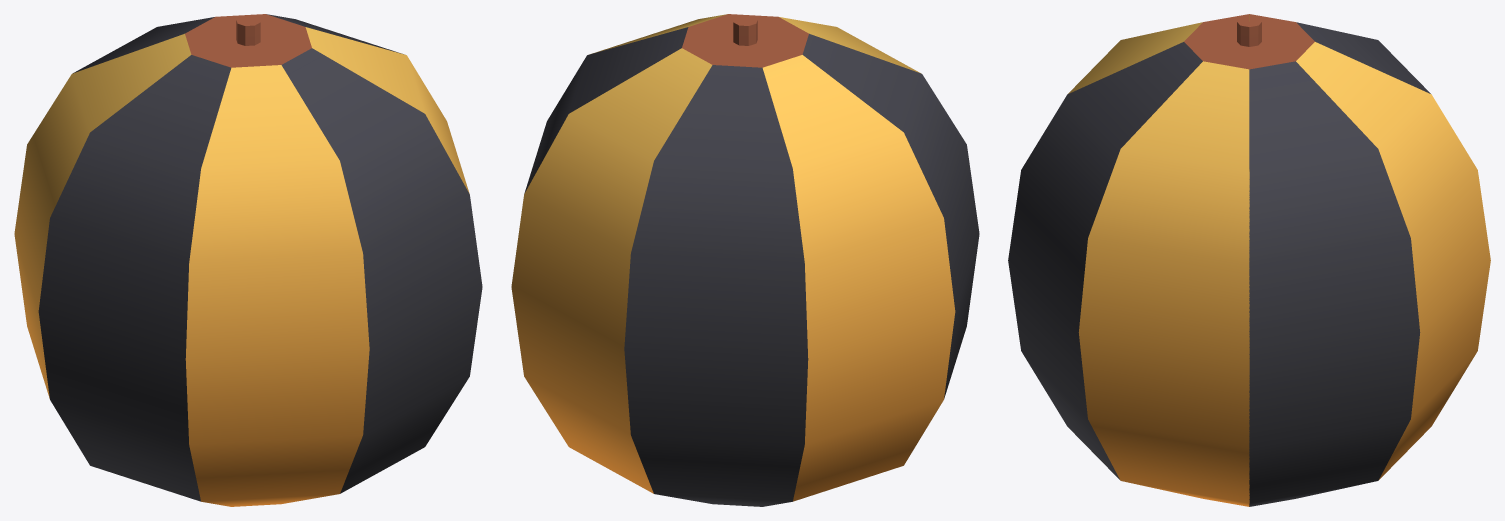
Rendered from watermelon.glb.
3 renders of one model, left to right at view 1: azimuth 30°, elevation 25°; view 2: azimuth 150°, elevation 25°; view 3: azimuth 270°, elevation 25°, orthographic.
Visible parts, largest first — view 1: slice, slice.001, slice.004, slice.007, slice.003, slice.002, slice.006; view 2: slice.002, slice.007, slice.005, slice.001, slice.006, slice, slice.003; view 3: slice.003, slice.006, slice.004, slice.005, slice, slice.002.
Boxes of the visible parts, bbox=[...] form: slice: bbox=[185, 21, 369, 506]; slice.001: bbox=[38, 21, 247, 501]; slice.004: bbox=[249, 21, 482, 493]; slice.007: bbox=[14, 19, 247, 398]; slice.003: bbox=[249, 18, 469, 193]; slice.002: bbox=[73, 16, 247, 73]; slice.006: bbox=[249, 14, 403, 54]; slice.002: bbox=[624, 21, 808, 506]; slice.007: bbox=[746, 21, 955, 501]; slice.005: bbox=[511, 21, 744, 493]; slice.001: bbox=[746, 19, 979, 398]; slice.006: bbox=[524, 18, 744, 193]; slice: bbox=[746, 16, 920, 73]; slice.003: bbox=[590, 14, 744, 54]; slice.003: bbox=[1078, 22, 1249, 506]; slice.006: bbox=[1249, 22, 1420, 506]; slice.004: bbox=[1008, 21, 1248, 479]; slice.005: bbox=[1250, 21, 1490, 479]; slice: bbox=[1068, 18, 1248, 93]; slice.002: bbox=[1250, 18, 1430, 93].
Size of the model in its own units: 0.4554 by 0.4761 by 0.4554.
1 material, 1 textured.
